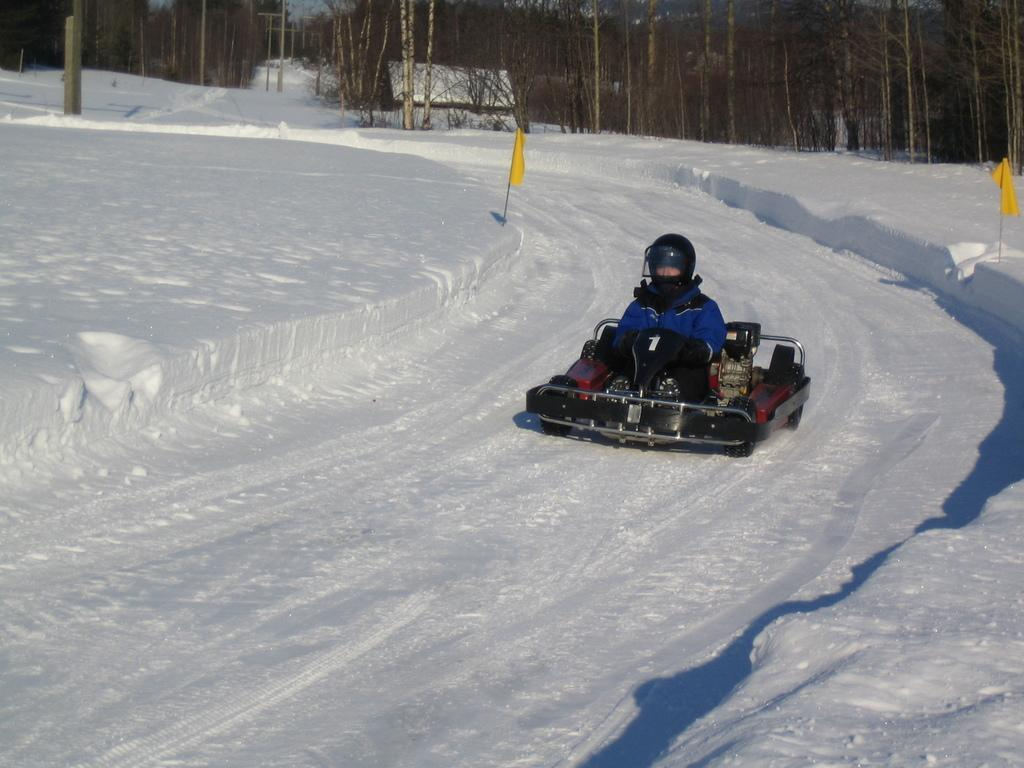helmet: (641, 233, 697, 298)
